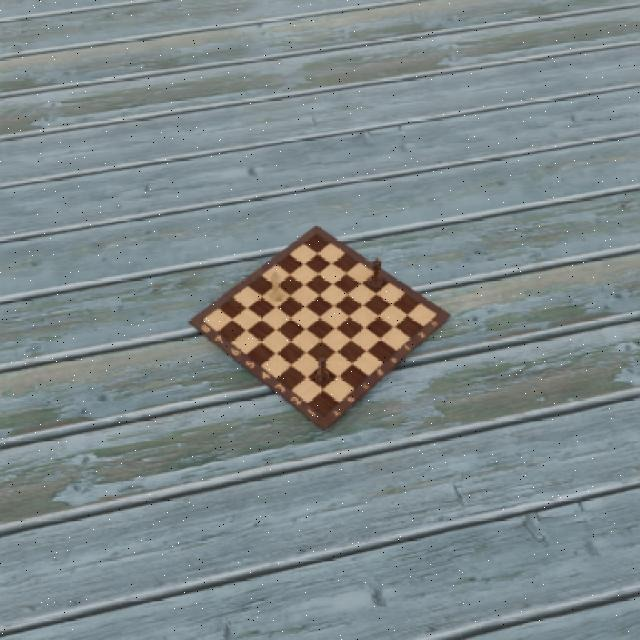black-bishop: (313, 356, 331, 384)
black-king: (367, 256, 384, 288)
white-king: (266, 271, 285, 302)
